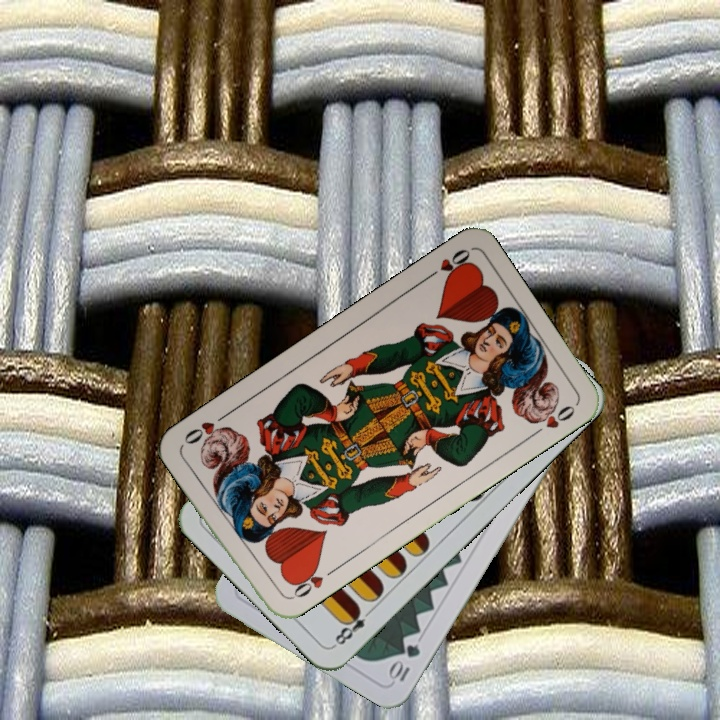E8: (329, 603, 377, 649)
G10: (385, 640, 423, 685)
HO: (284, 561, 338, 603), (420, 244, 474, 284)
